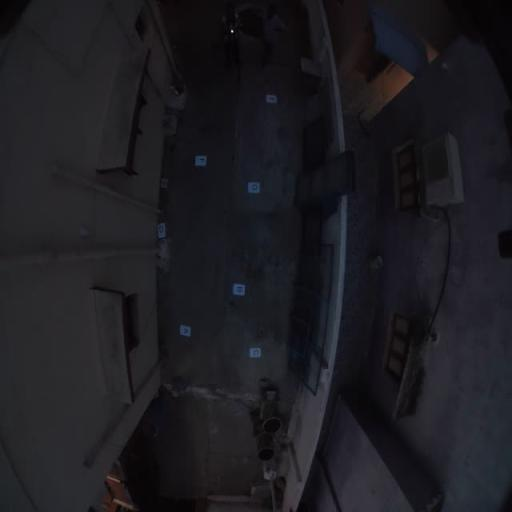A: (179, 323, 191, 337)
B: (232, 282, 246, 296)
C: (248, 347, 262, 358)
D: (156, 222, 166, 239)
E: (266, 94, 278, 103)
F: (194, 155, 208, 166)
G: (246, 181, 261, 194)
